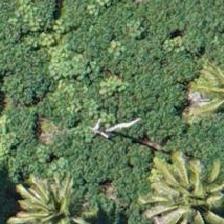coconut_tree: (10, 156, 100, 223), (146, 150, 223, 223)
